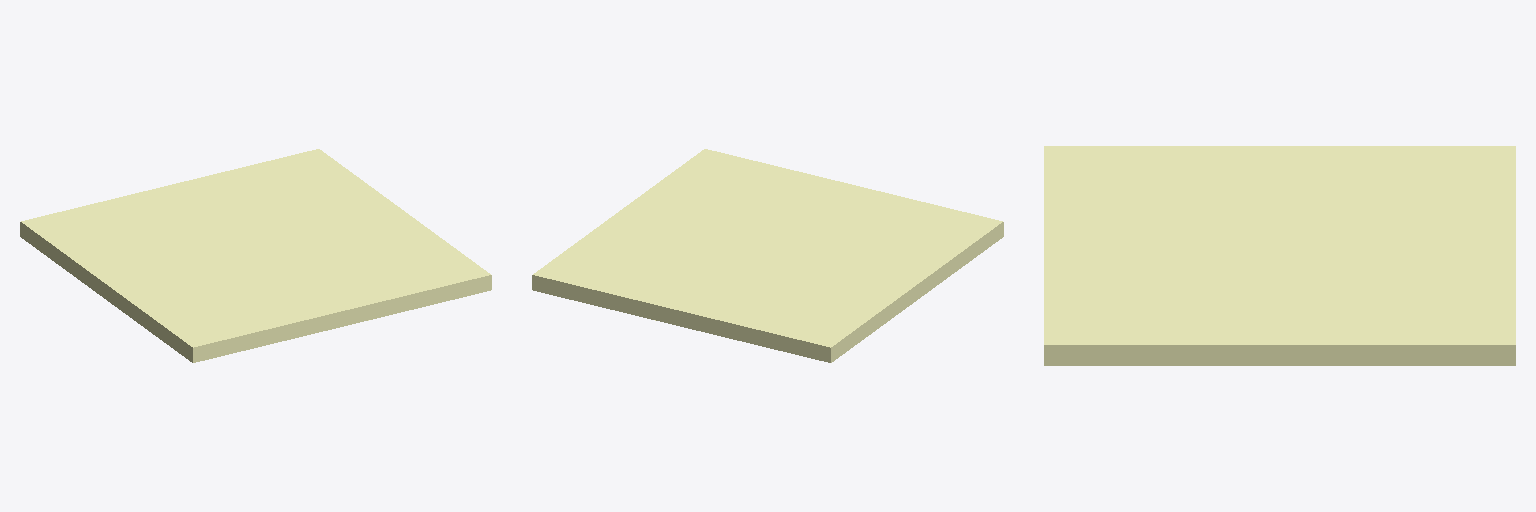
The robot description file, URDF, robot "table":
<robot name="table">
  <link name="table">

    <!-- rosrun gazebo_ros spawn_model -file $(rospack find ur5_single_arm_tufts)/urdf/objects/table.urdf -urdf -x 0.5 -y -0 -z 0.75 -model table -->
    
    <inertial>
      <origin xyz="0.23 0 0.755" rpy="0 0 0" />
      <mass value="1"/>
      <inertia
        ixx="0.07" ixy="0.0" ixz="0.0"
        iyy="0.40" iyz="0.0"
        izz="0.33"/>
    </inertial>

    <visual>
      <geometry>
        <box size="1 1 0.05"/>
      </geometry>
      <material name="beige">
        <color rgba="1 1 0.8 1.0"/>
      </material>
    </visual>

    <collision>
      <geometry>
        <box size="1 1 0.05"/>
      </geometry>
    </collision>

  </link>

  <gazebo reference="table">
    <material>Gazebo/Wood</material>
  </gazebo> 

  <gazebo>
    <static>true</static>
  </gazebo>

</robot>

--- Facts derived from the render (not from the file) ---
3 views of the same robot in one strip: view 1: azimuth 30°, elevation 25°; view 2: azimuth 150°, elevation 25°; view 3: azimuth 270°, elevation 25° (orthographic).
Robot: table — 1 links, 0 joints (none); root link table; default pose: every joint at zero.
Links seen in each view (by area): view 1: table; view 2: table; view 3: table.
Link boxes in pixels (box(x1,y1,x2,y2)): table: box(20, 149, 491, 362); table: box(532, 149, 1003, 362); table: box(1044, 146, 1515, 365).
Size in the robot's own frame: 1 by 1 by 0.05 metres.
Geometry: primitives only (box / cylinder / sphere), no mesh files.
